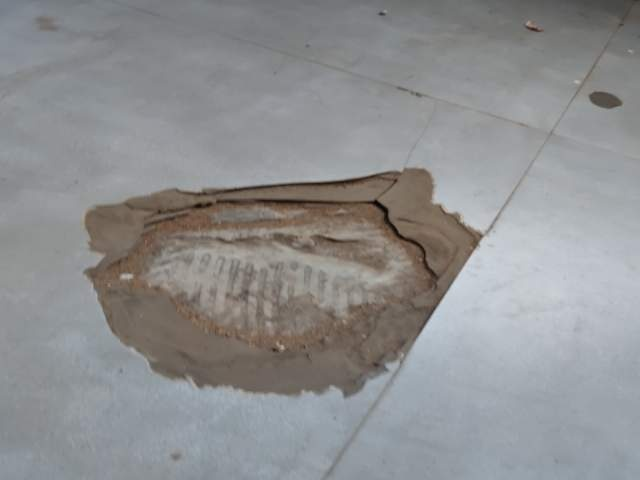pothole: (286, 269, 640, 464)
